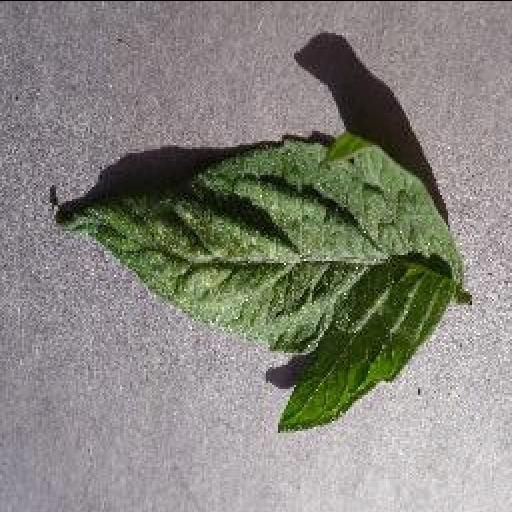disease_tomato: (50, 136, 462, 430)
